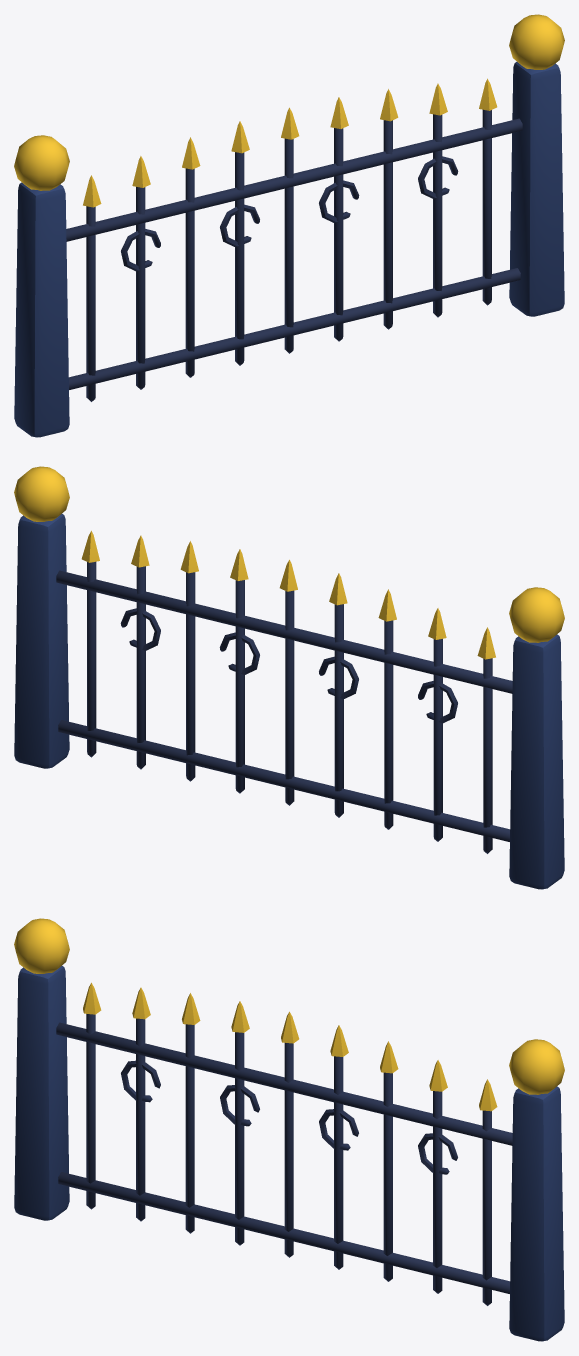
File: W1_Fence.fbx
The picture shows the model from 3 angles, top to bottom: view 1: azimuth 30°, elevation 25°; view 2: azimuth 150°, elevation 25°; view 3: azimuth 330°, elevation 25°; orthographic projection.
Parts seen in each view (by area): view 1: W1_Fence; view 2: W1_Fence; view 3: W1_Fence.
Part boxes in pixels (x1=…): W1_Fence: x1=14, y1=14, x2=564, y2=437; W1_Fence: x1=14, y1=466, x2=564, y2=889; W1_Fence: x1=14, y1=918, x2=564, y2=1341.
Size of the model in its own units: 4.38 by 2.25 by 0.4.
